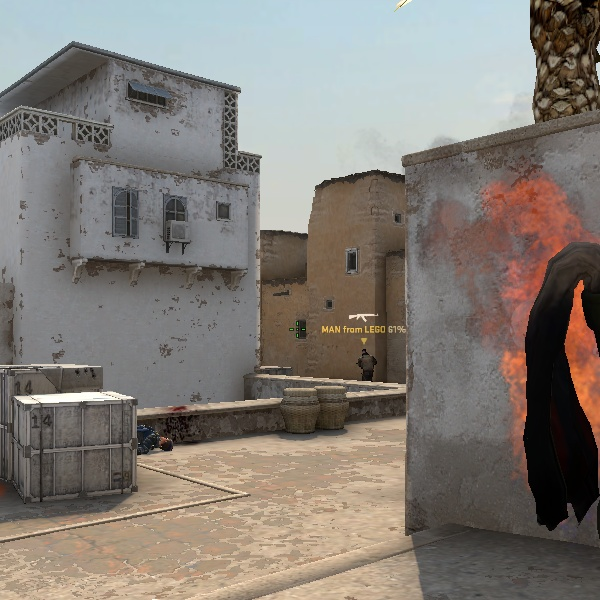t_body: (357, 348, 378, 382)
t_head: (362, 348, 368, 358)
